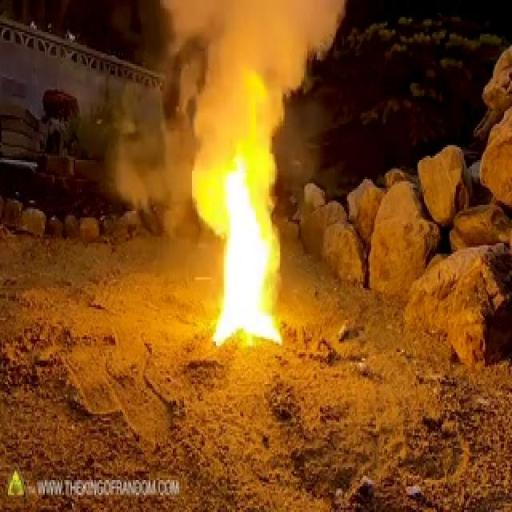smoke: (194, 122, 289, 356)
